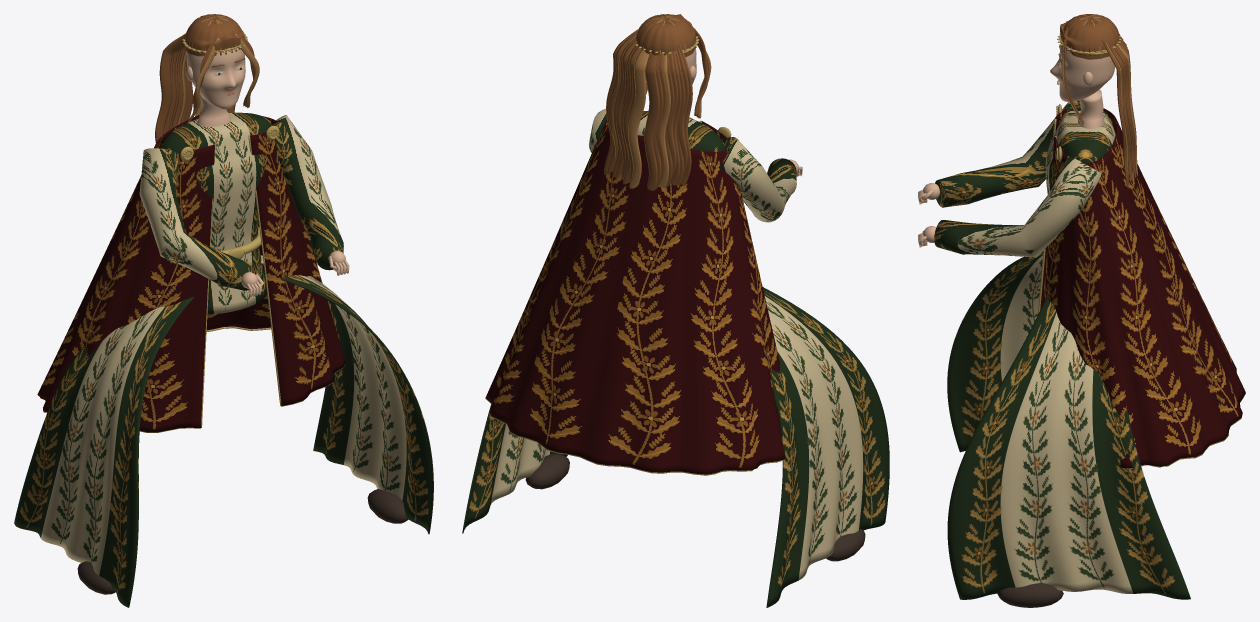
The model's file is princess-v13-mounted.glb.
3 renders of one model, left to right at view 1: azimuth 30°, elevation 25°; view 2: azimuth 150°, elevation 25°; view 3: azimuth 270°, elevation 25°, orthographic.
Parts seen in each view (by area): view 1: MorrisPrincess_surface, cape_surface, body_surface, head_surface, armL_surface, armR_surface; view 2: cape_surface, MorrisPrincess_surface, head_surface, armL_surface, body_surface; view 3: MorrisPrincess_surface, cape_surface, armR_surface, head_surface, armL_surface, body_surface.
Boxes of the visible parts, x1=… form: MorrisPrincess_surface: x1=14, y1=255, x2=433, y2=607; cape_surface: x1=37, y1=115, x2=345, y2=432; body_surface: x1=160, y1=94, x2=279, y2=314; head_surface: x1=155, y1=14, x2=259, y2=142; armL_surface: x1=139, y1=148, x2=263, y2=296; armR_surface: x1=272, y1=115, x2=349, y2=275; cape_surface: x1=485, y1=120, x2=785, y2=475; MorrisPrincess_surface: x1=462, y1=287, x2=889, y2=607; head_surface: x1=604, y1=14, x2=711, y2=190; armL_surface: x1=718, y1=137, x2=802, y2=222; body_surface: x1=637, y1=111, x2=731, y2=151; MorrisPrincess_surface: x1=947, y1=251, x2=1190, y2=607; cape_surface: x1=1037, y1=108, x2=1245, y2=469; armR_surface: x1=918, y1=156, x2=1102, y2=257; head_surface: x1=1050, y1=14, x2=1137, y2=188; armL_surface: x1=918, y1=100, x2=1080, y2=207; body_surface: x1=1045, y1=89, x2=1115, y2=194.
Size of the model in its own units: 0.948 by 1.46 by 0.8373.
Materials: 10 (2 with a texture image).
